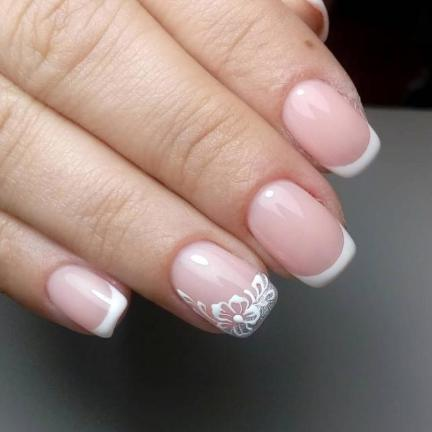Nail: (248, 180, 358, 288), (170, 240, 279, 339), (281, 79, 381, 179), (47, 264, 128, 338)
